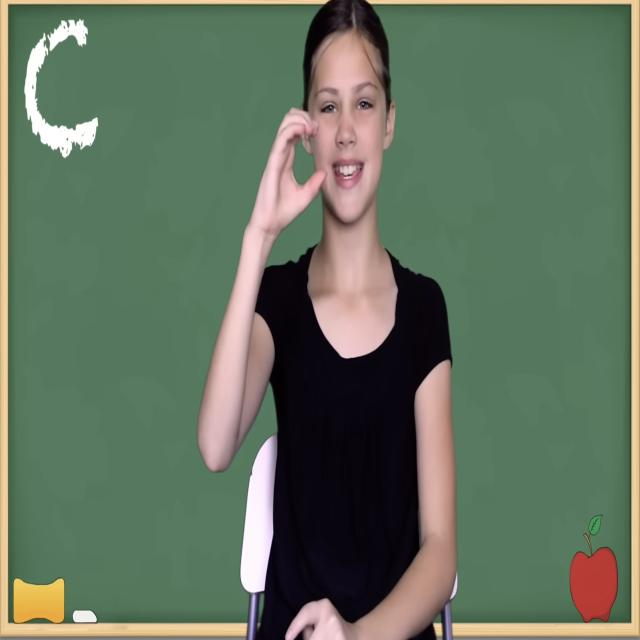C: (248, 102, 329, 231)
